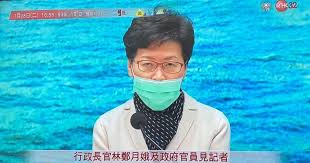mask_weared_incorrect: (125, 37, 194, 109)
